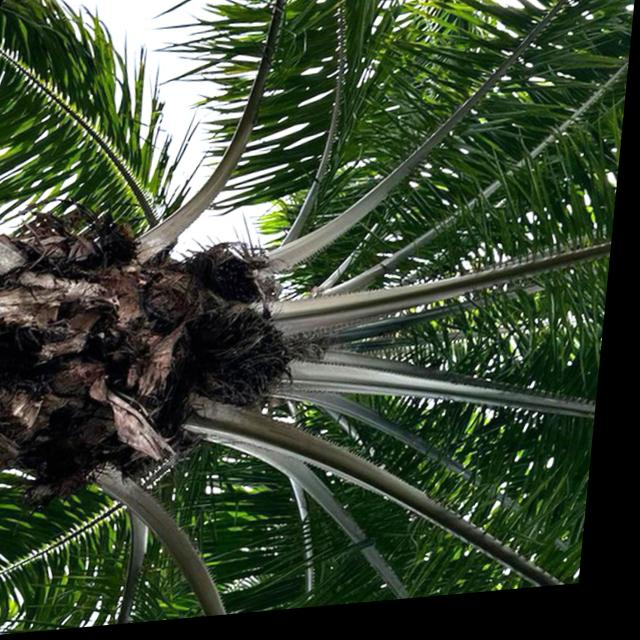almost: (182, 304, 309, 420)
